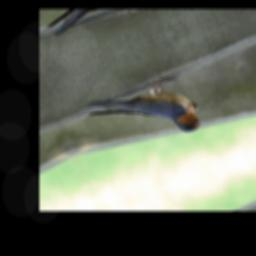Swallow: (66, 68, 210, 168)
